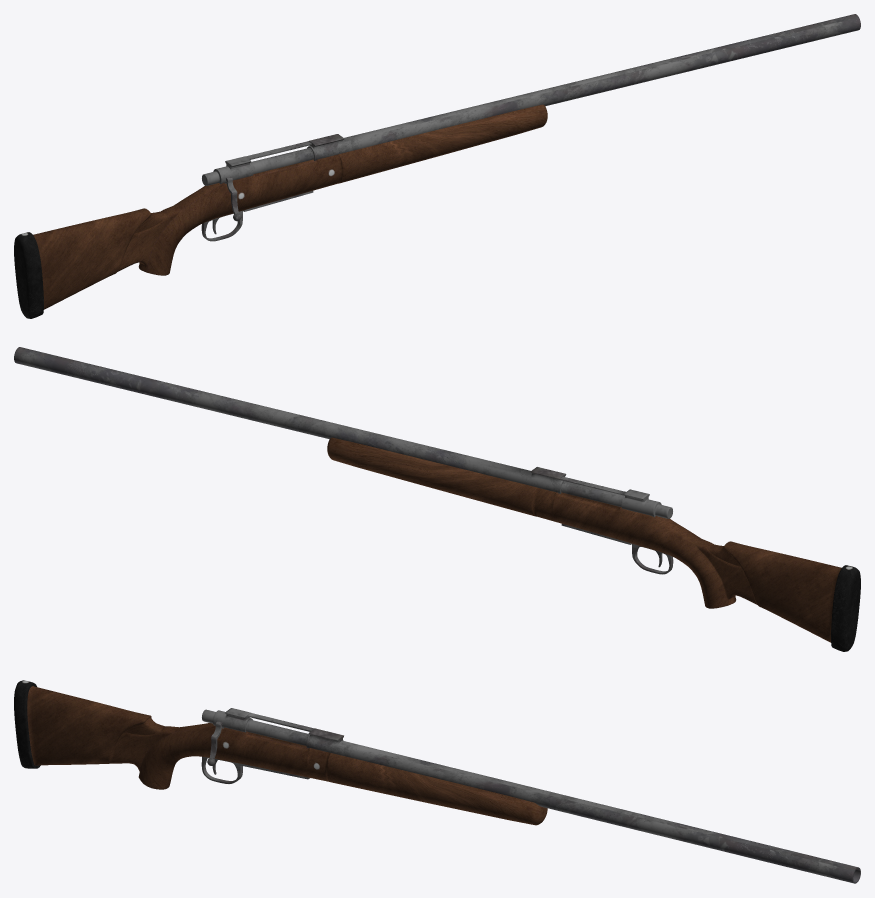
File: RifledBoltModel.gltf
The picture shows the model from 3 angles, top to bottom: view 1: azimuth 30°, elevation 25°; view 2: azimuth 150°, elevation 25°; view 3: azimuth 330°, elevation 25°; orthographic projection.
Visible parts, largest first — view 1: Cylinder001 (×2), Line001; view 2: Cylinder001 (×2), Line001, Line002; view 3: Cylinder001 (×2), Line001, Line002.
Part boxes in pixels (x1,y1,x2,y2): Cylinder001 (×2): (14,104,547,318); Line001: (202,14,860,185); Cylinder001 (×2): (327,437,860,651); Line001: (14,347,672,518); Line002: (561,524,673,574); Cylinder001 (×2): (14,680,547,825); Line001: (202,708,860,883); Line002: (201,756,309,783).
Size of the model in its own units: 1.88 by 0.2282 by 0.0918.
3 materials, 3 textured.
